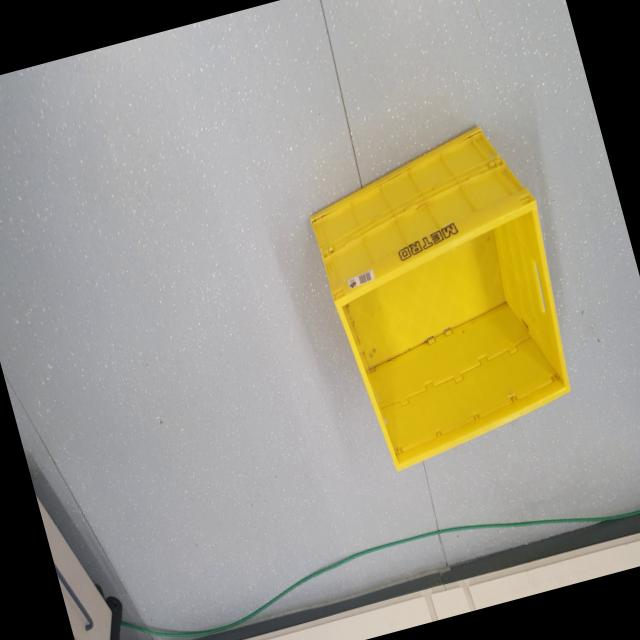box: (290, 102, 600, 480)
